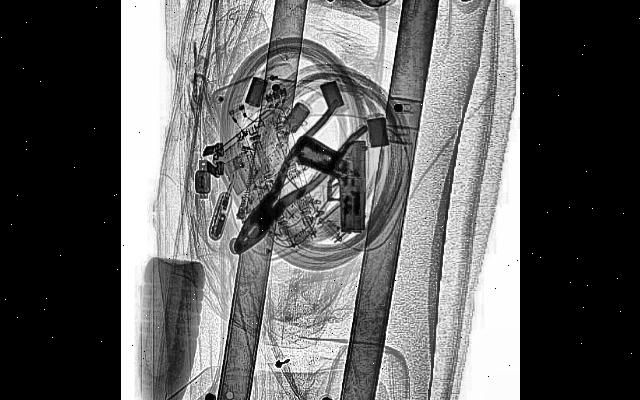Gun: (298, 135, 367, 236)
Pliers: (226, 76, 368, 276)
